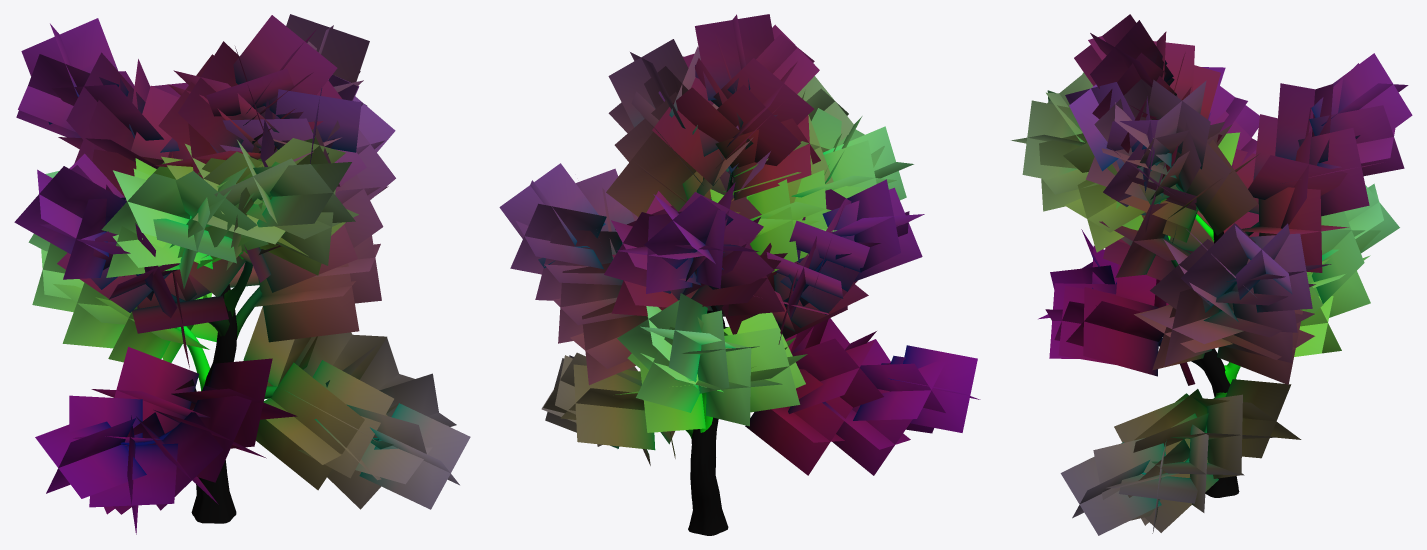
Rendered from URP_P11_Tree_2_LOD_0.fbx.
3 renders of one model, left to right at view 1: azimuth 30°, elevation 25°; view 2: azimuth 150°, elevation 25°; view 3: azimuth 270°, elevation 25°, orthographic. The views are drawn at different scales.
Parts seen in each view (by area): view 1: Tree_2_LOD_0; view 2: Tree_2_LOD_0; view 3: Tree_2_LOD_0.
Part boxes in pixels (x1=…): Tree_2_LOD_0: x1=14, y1=14, x2=470, y2=534; Tree_2_LOD_0: x1=499, y1=14, x2=980, y2=535; Tree_2_LOD_0: x1=1011, y1=14, x2=1412, y2=535.
Size of the model in its own units: 587 by 704 by 540.
